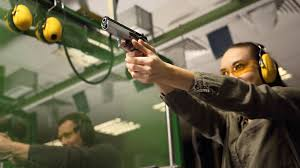gun: (100, 14, 156, 65)
